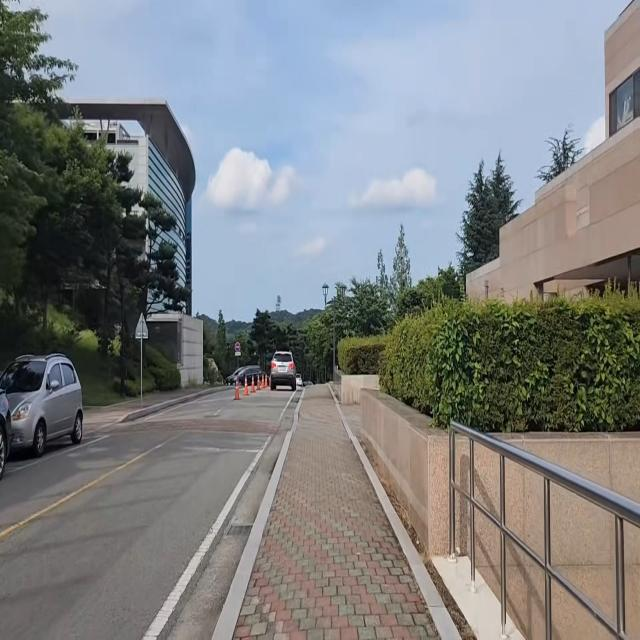obstacle: (0, 342, 95, 461), (0, 372, 15, 487), (267, 341, 298, 394)
road: (0, 384, 300, 640)
sidewalk: (212, 381, 464, 640)
